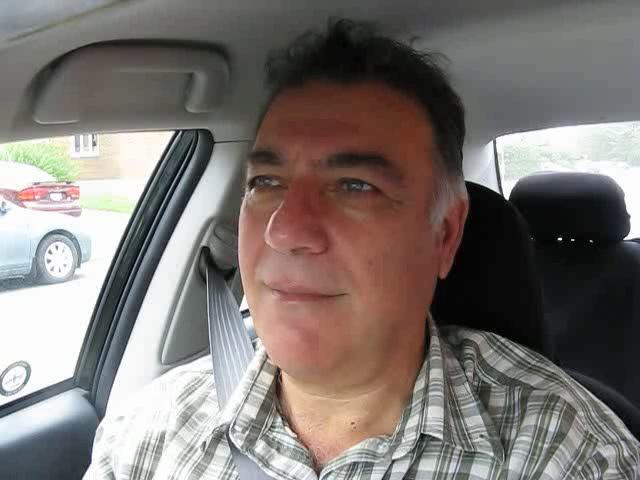no_yawn: (247, 264, 357, 324)
open_eyeL: (238, 163, 300, 204)
open_eyeR: (320, 167, 404, 213)
